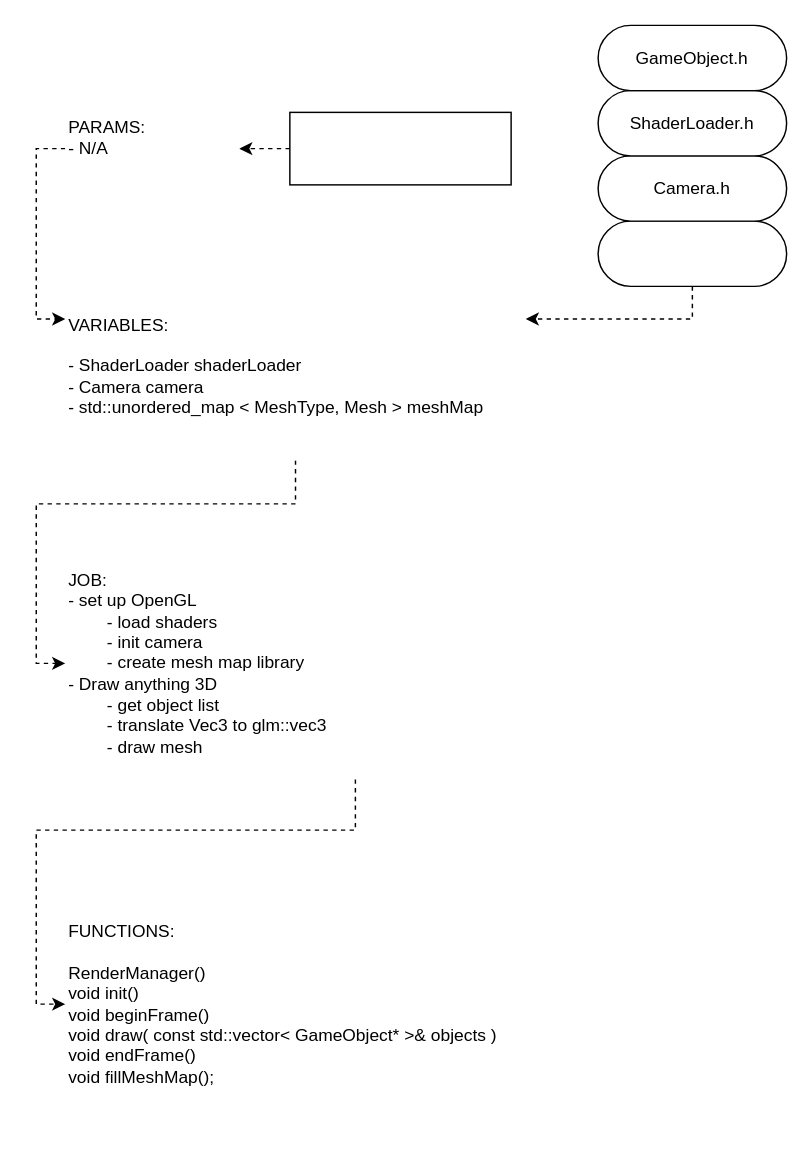
This 812x1153 diagram has some shape labels left out. Each missing label, with the centre of its shape:
"Class Render Manager" goes at point 399,148.
"Mesh.h" goes at point 692,253.
